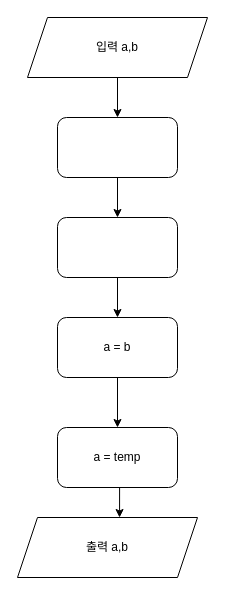
Some shapes in this 225 by 595 pixel diagram are drawn without their labels. Each missing label, with the centre of its shape:
"temp = a" belongs at point (117, 247).
"변수 temp 선언" belongs at point (117, 147).
